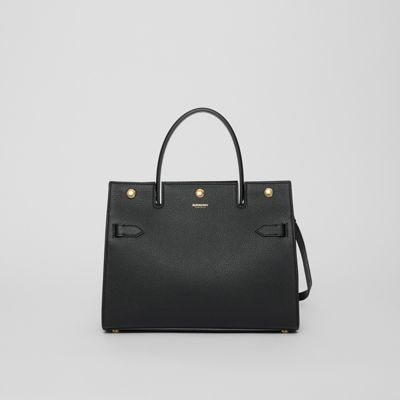bag: (92, 102, 331, 349)
